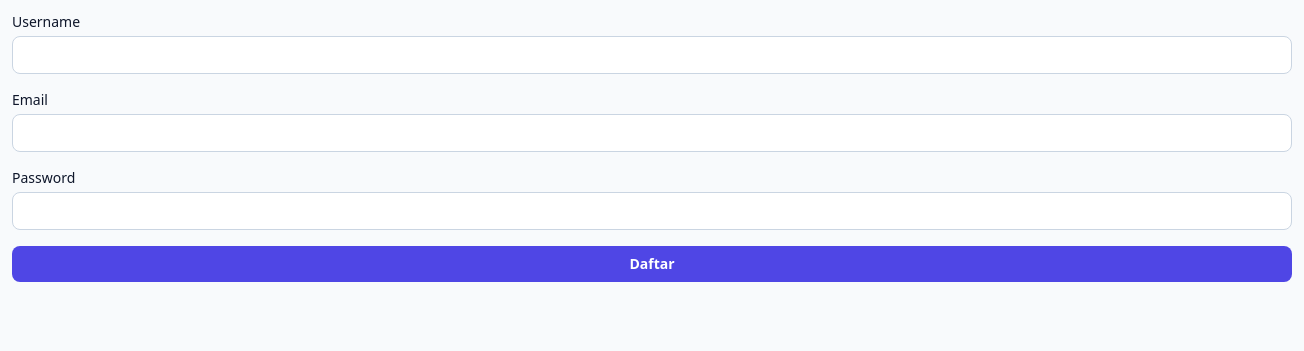
Test: AuthForm › registrasi gagal menampilkan error
This screenshot has width=1304, height=351.
In the field with id "register-username": [652, 55] box [12,36,1292,74], type "a"
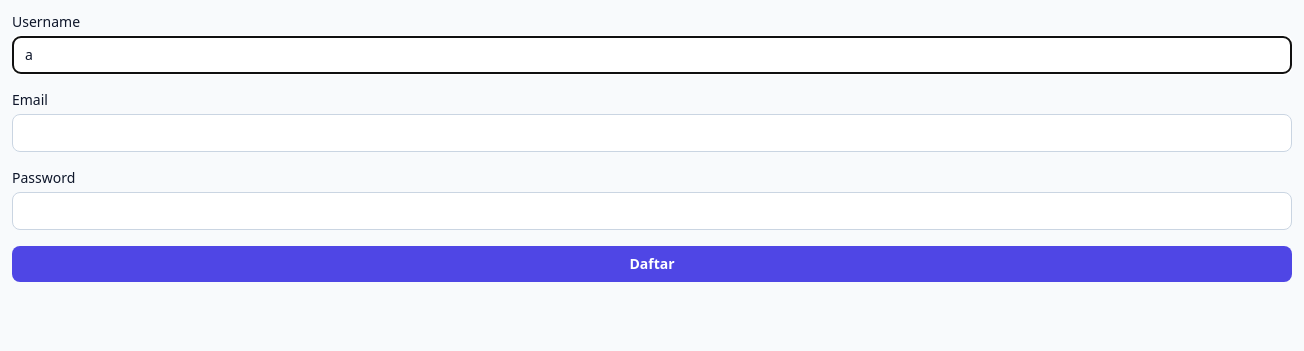
In the field with id "register-email": [652, 133] box [12,114,1292,152], type "a@a.com"
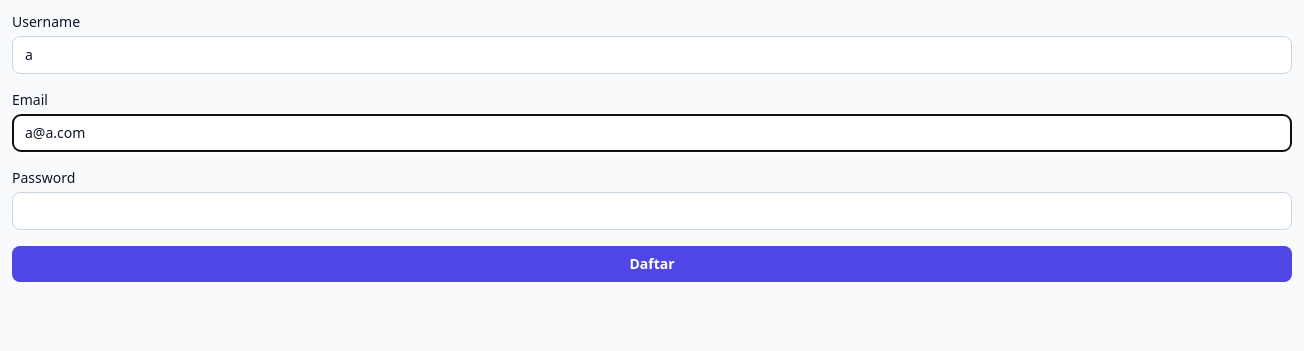
In the password field with id "register-password": [652, 211] box [12,192,1292,230], type "b"
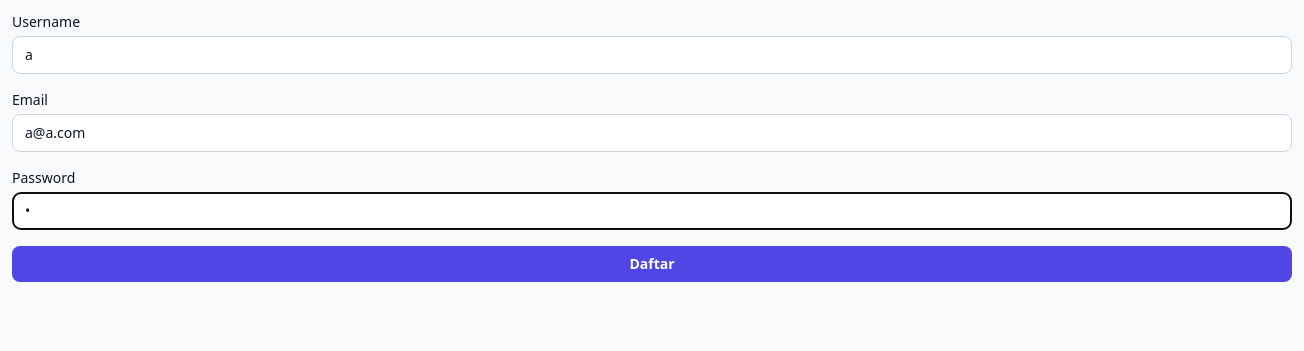
Click the button with id "register-submit": [652, 264] box [12,246,1292,282]
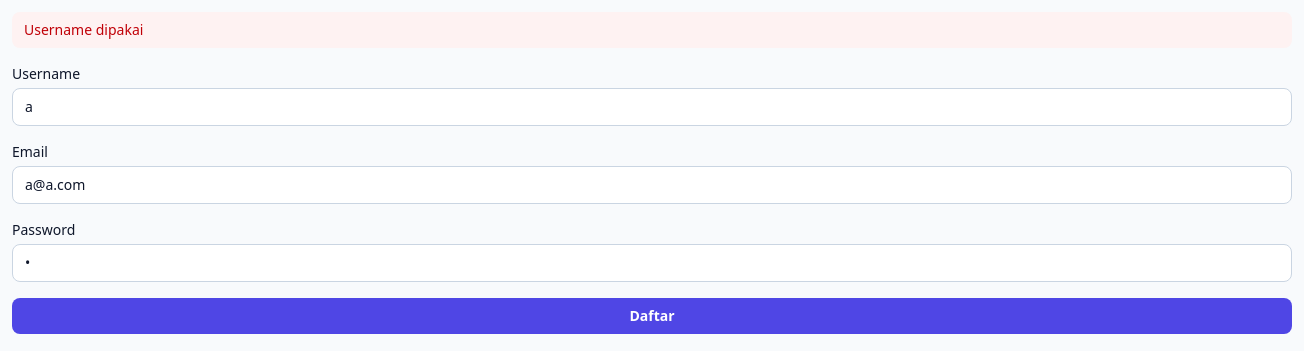
Check: the message reads "Username dipakai", box [24,20,143,39]
